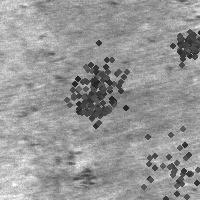rolled-in_scale: (122, 109, 200, 200), (57, 42, 137, 122), (6, 50, 98, 117), (10, 130, 97, 192), (56, 66, 122, 132), (165, 21, 200, 65)
